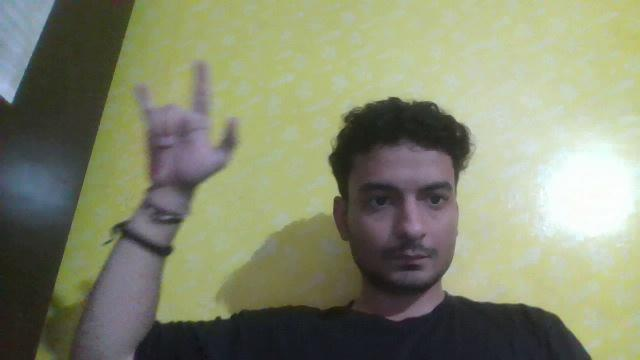Loveyou: (121, 53, 292, 203)
